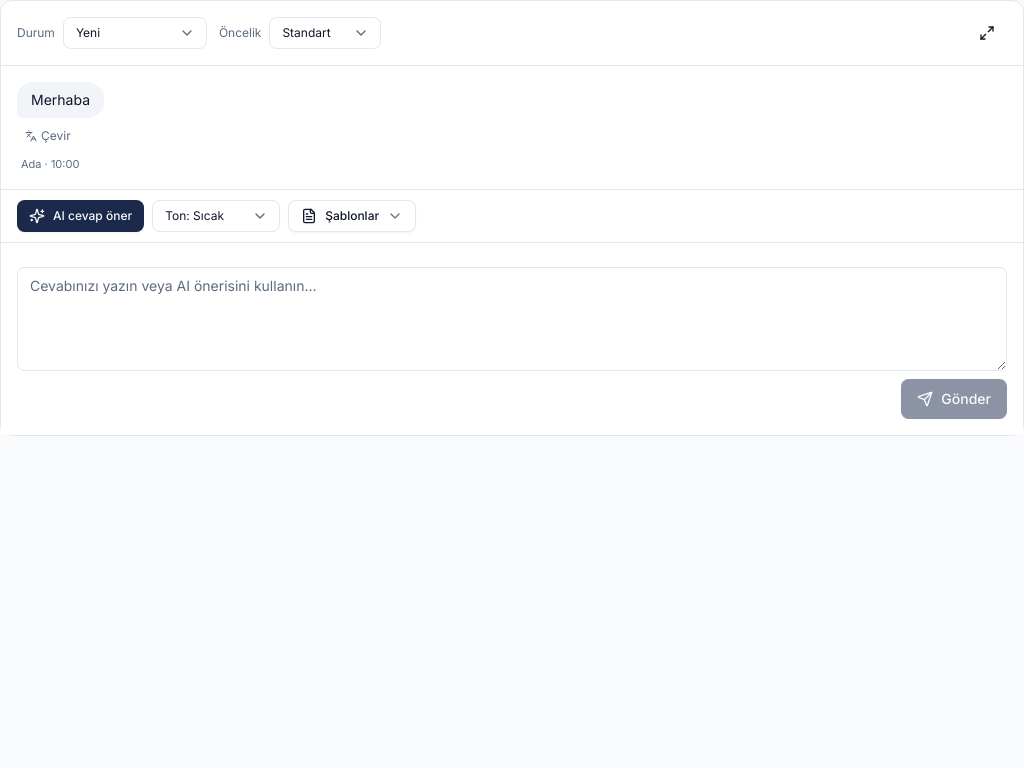
şablon seçici — sayfalı liste + seçilince tam metin › aramadan sonra 'Daha fazla göster' AYNI aramanın sonraki sayfasını ister
Click the button "Şablonlar": (352, 216) [288,200,416,232]
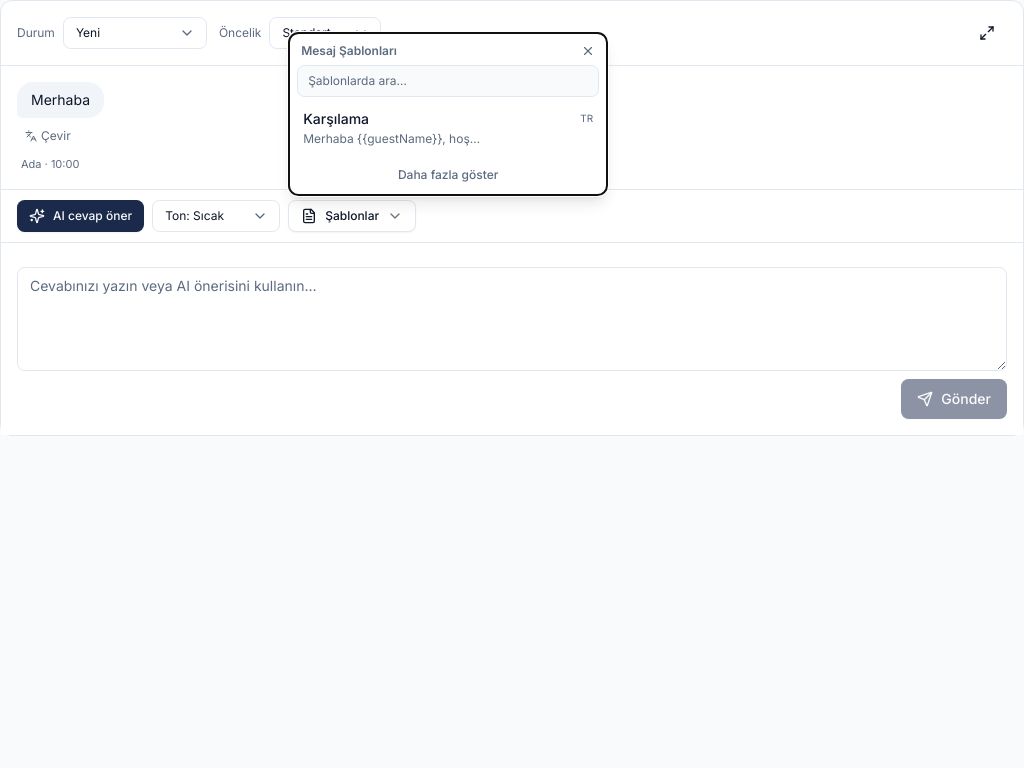
Expected: the dialog shows "Karşılama", [293,100,603,154]
In the search field labelled "Şablonlarda ara": (448, 80) [297,64,599,96], type "otopark"
Wait 300 ms
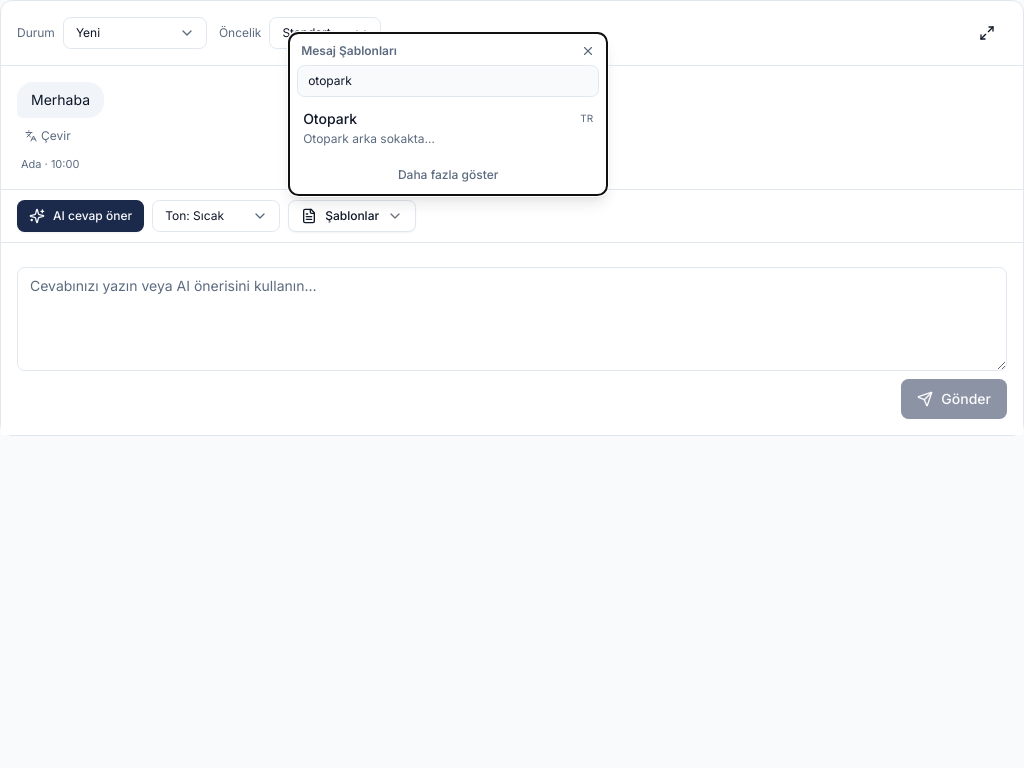
Expected: the dialog shows "Otopark arka sokakta…", [293,100,603,154]
Click the button "Daha fazla göster": (448, 174) [293,158,603,190]
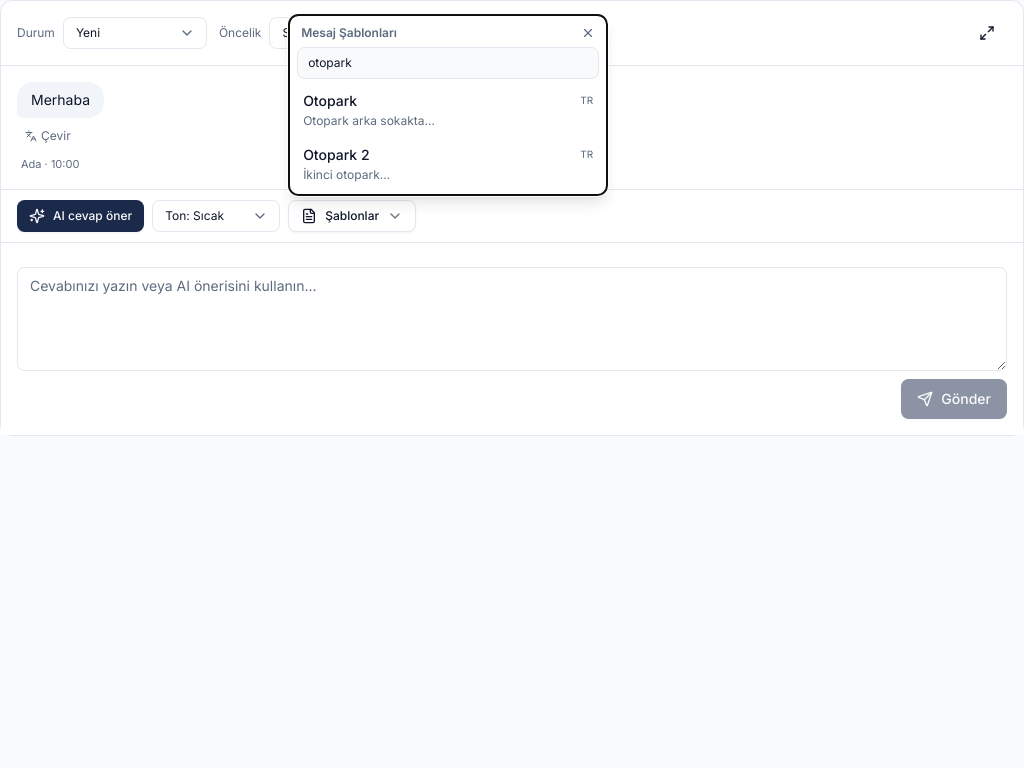
Expected: the dialog shows "İkinci otopark…", [293,136,603,190]
